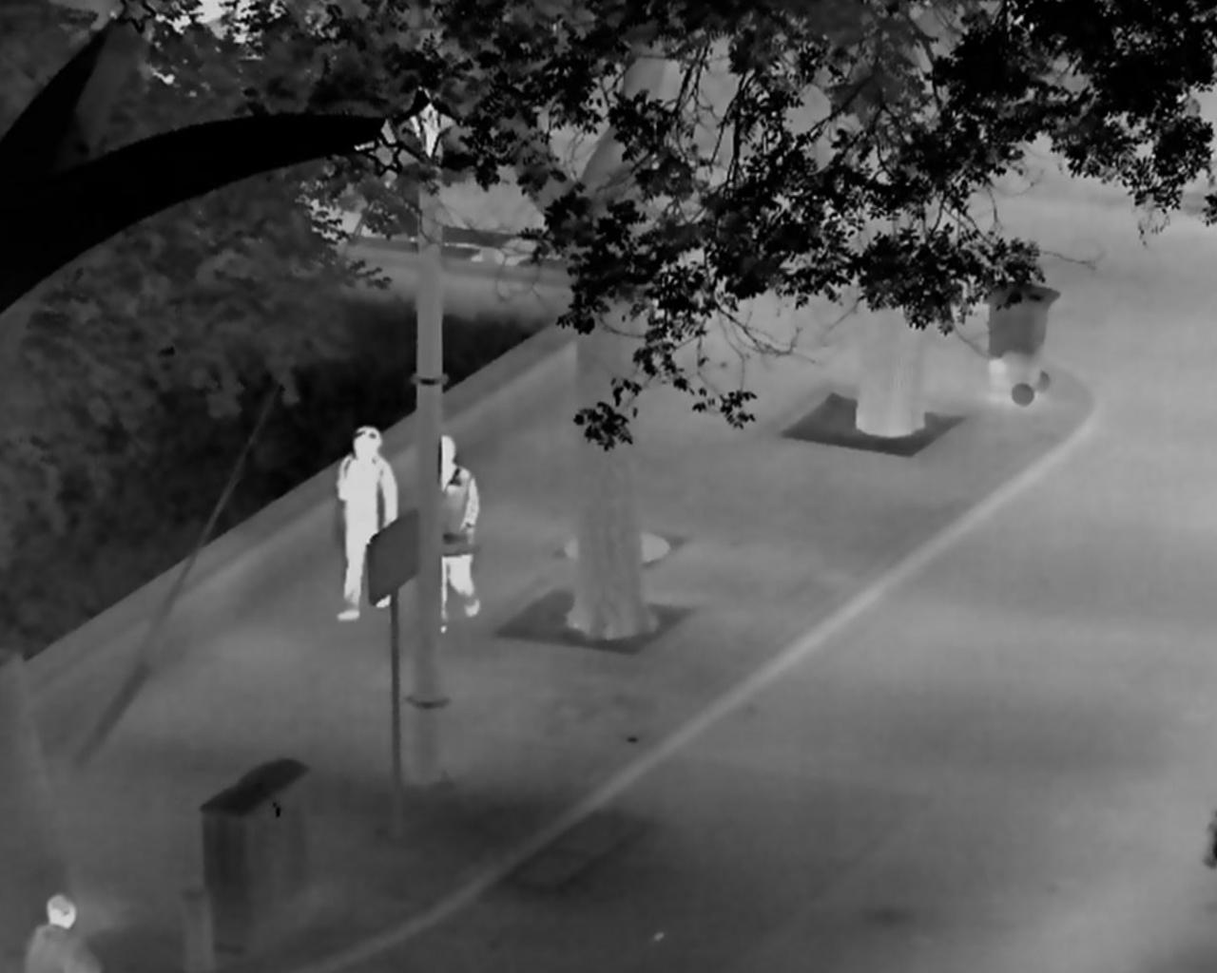person: (336, 421, 397, 620), (440, 429, 484, 635), (20, 892, 99, 973)
